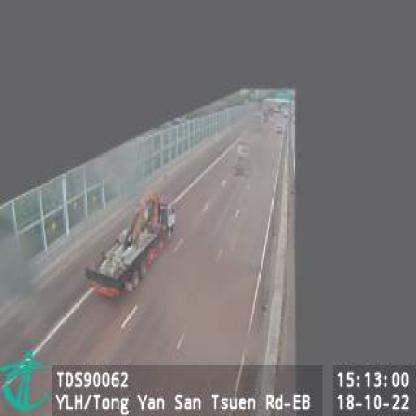Car: (275, 126, 284, 136)
Truck: (86, 190, 176, 301)
